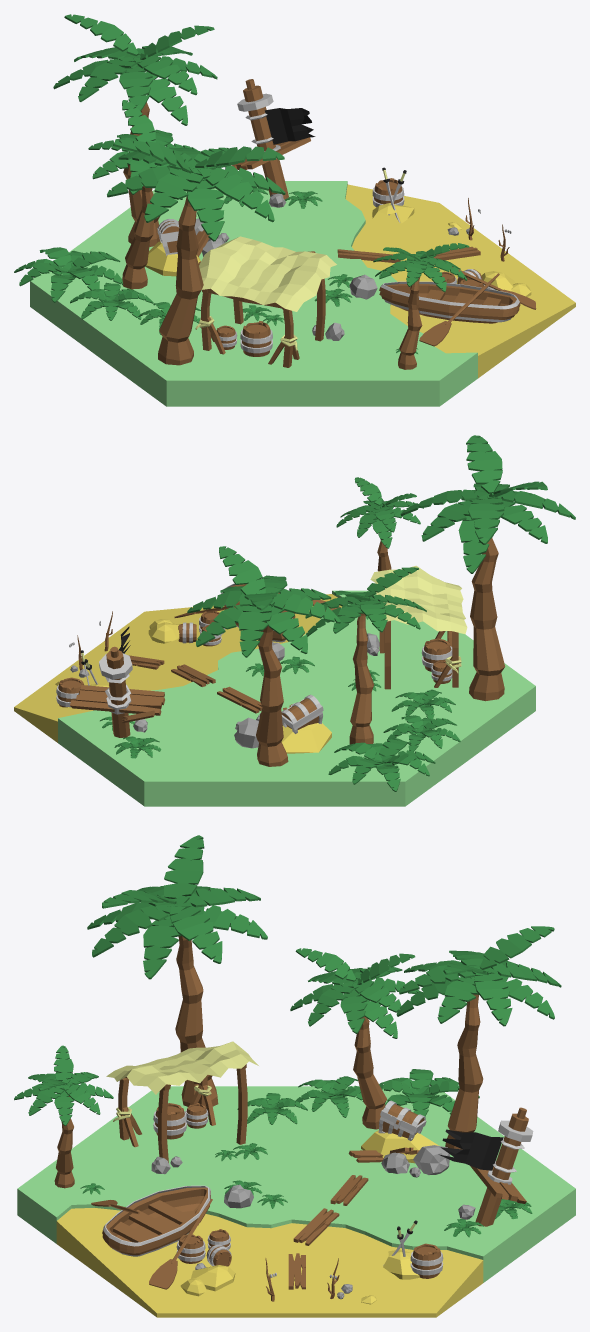
Rendered from low_poly_pirate_island.glb.
The picture shows the model from 3 angles, top to bottom: view 1: azimuth 30°, elevation 25°; view 2: azimuth 150°, elevation 25°; view 3: azimuth 270°, elevation 25°; orthographic projection. The views are drawn at different scales.
Parts seen in each view (by area): view 1: Object_4, Object_5, Object_3, Object_6, Object_7; view 2: Object_4, Object_5, Object_3, Object_6, Object_7; view 3: Object_4, Object_5, Object_3, Object_6, Object_7.
Part boxes in pixels (x1,y1,x2,y2): Object_4: [30, 102, 575, 406]; Object_5: [53, 14, 469, 292]; Object_3: [145, 79, 536, 356]; Object_6: [14, 147, 417, 353]; Object_7: [224, 188, 352, 325]; Object_4: [14, 538, 535, 806]; Object_5: [187, 435, 575, 657]; Object_3: [55, 600, 452, 753]; Object_6: [328, 483, 509, 791]; Object_7: [100, 656, 381, 758]; Object_4: [17, 935, 575, 1317]; Object_5: [14, 835, 561, 1125]; Object_3: [91, 1100, 533, 1304]; Object_6: [80, 904, 479, 1194]; Object_7: [215, 1143, 532, 1237].
Bounding box in the file's own units: 28.26 × 15.55 × 30.18.
Materials: 1 (1 with a texture image).
